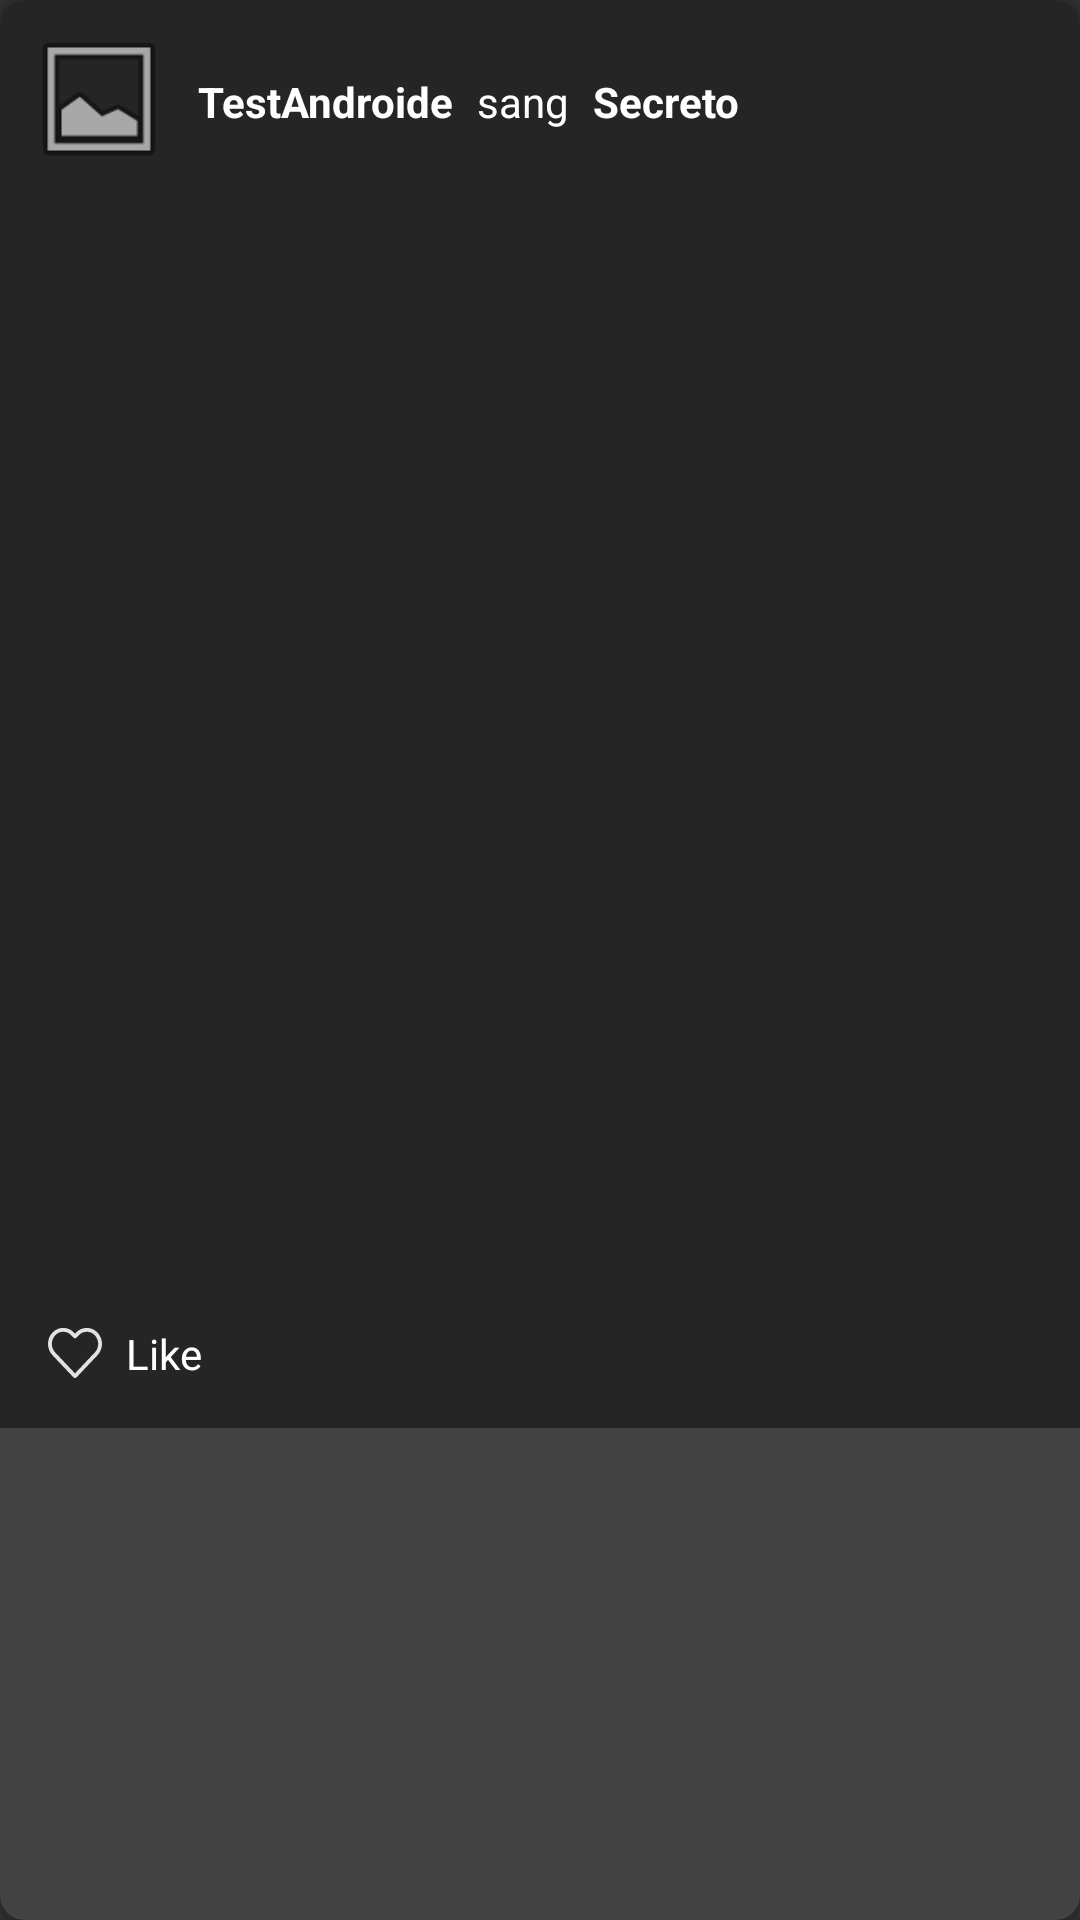

Icon bounding boxes for this 1080 × 1920 phone screenshot, format (x1, y1, x2, y2):
gallery: (43, 43, 155, 155)
heart: (48, 1328, 102, 1378)
